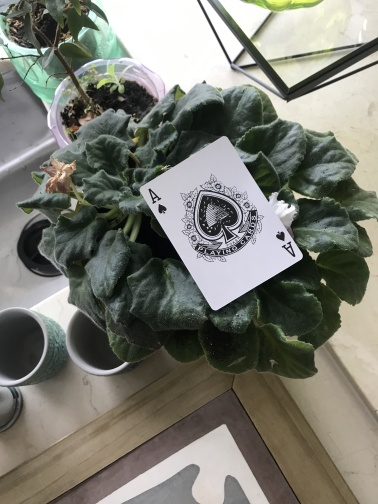ace: (138, 135, 305, 313)
